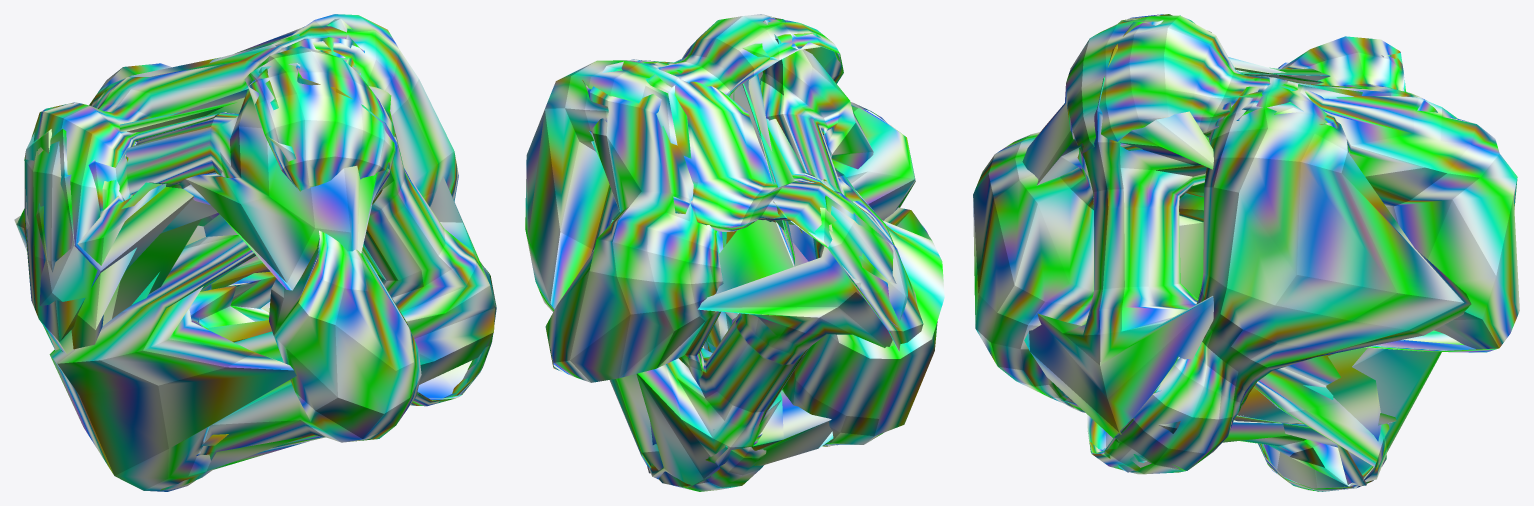
Rendered from Player_9.fbx.
3 renders of one model, left to right at view 1: azimuth 30°, elevation 25°; view 2: azimuth 150°, elevation 25°; view 3: azimuth 270°, elevation 25°, orthographic. The views are drawn at different scales.
Visible parts, largest first — view 1: Torus.001; view 2: Torus.001; view 3: Torus.001.
Boxes of the visible parts, x1,y1,x2,y2 form: Torus.001: (14, 14, 496, 491); Torus.001: (525, 14, 944, 491); Torus.001: (973, 14, 1519, 491).
Size of the model in its own units: 439 by 454 by 475.
1 material, 1 textured.
